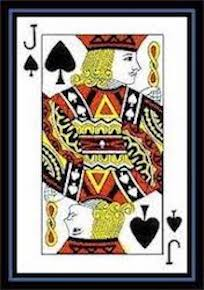JackOfSpades: (9, 7, 195, 282)
